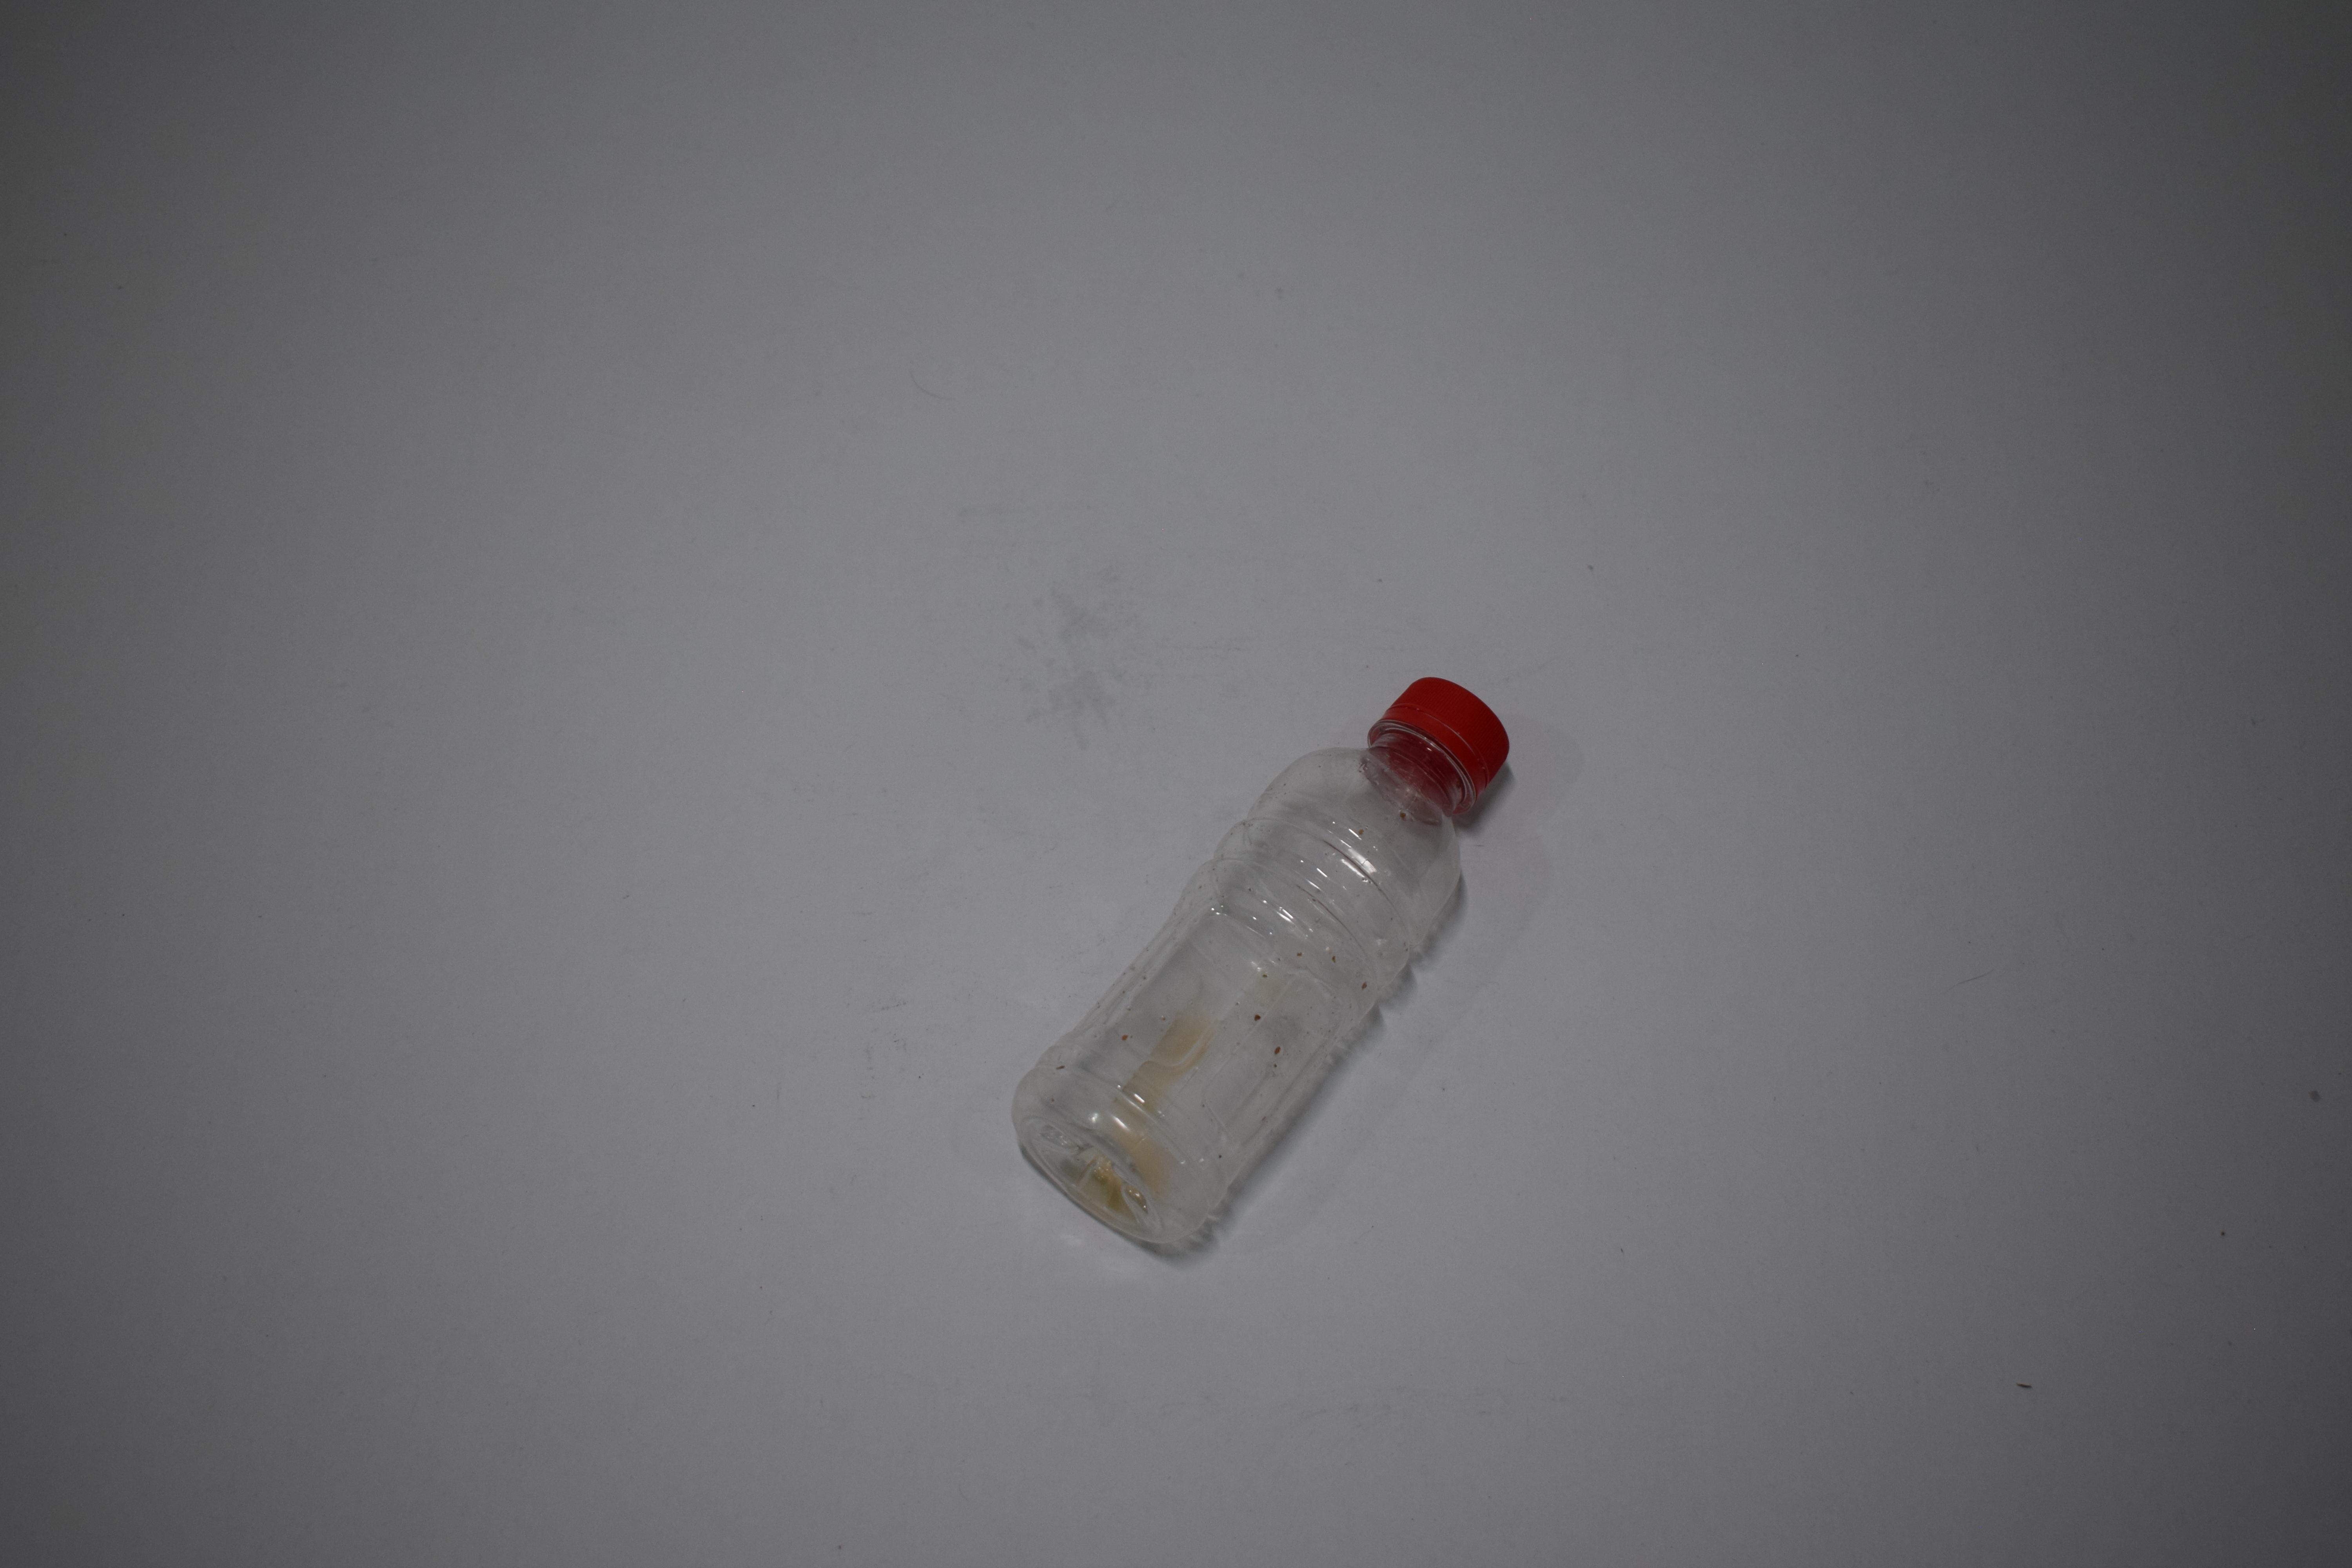bottle: (0, 658, 325, 1255)
